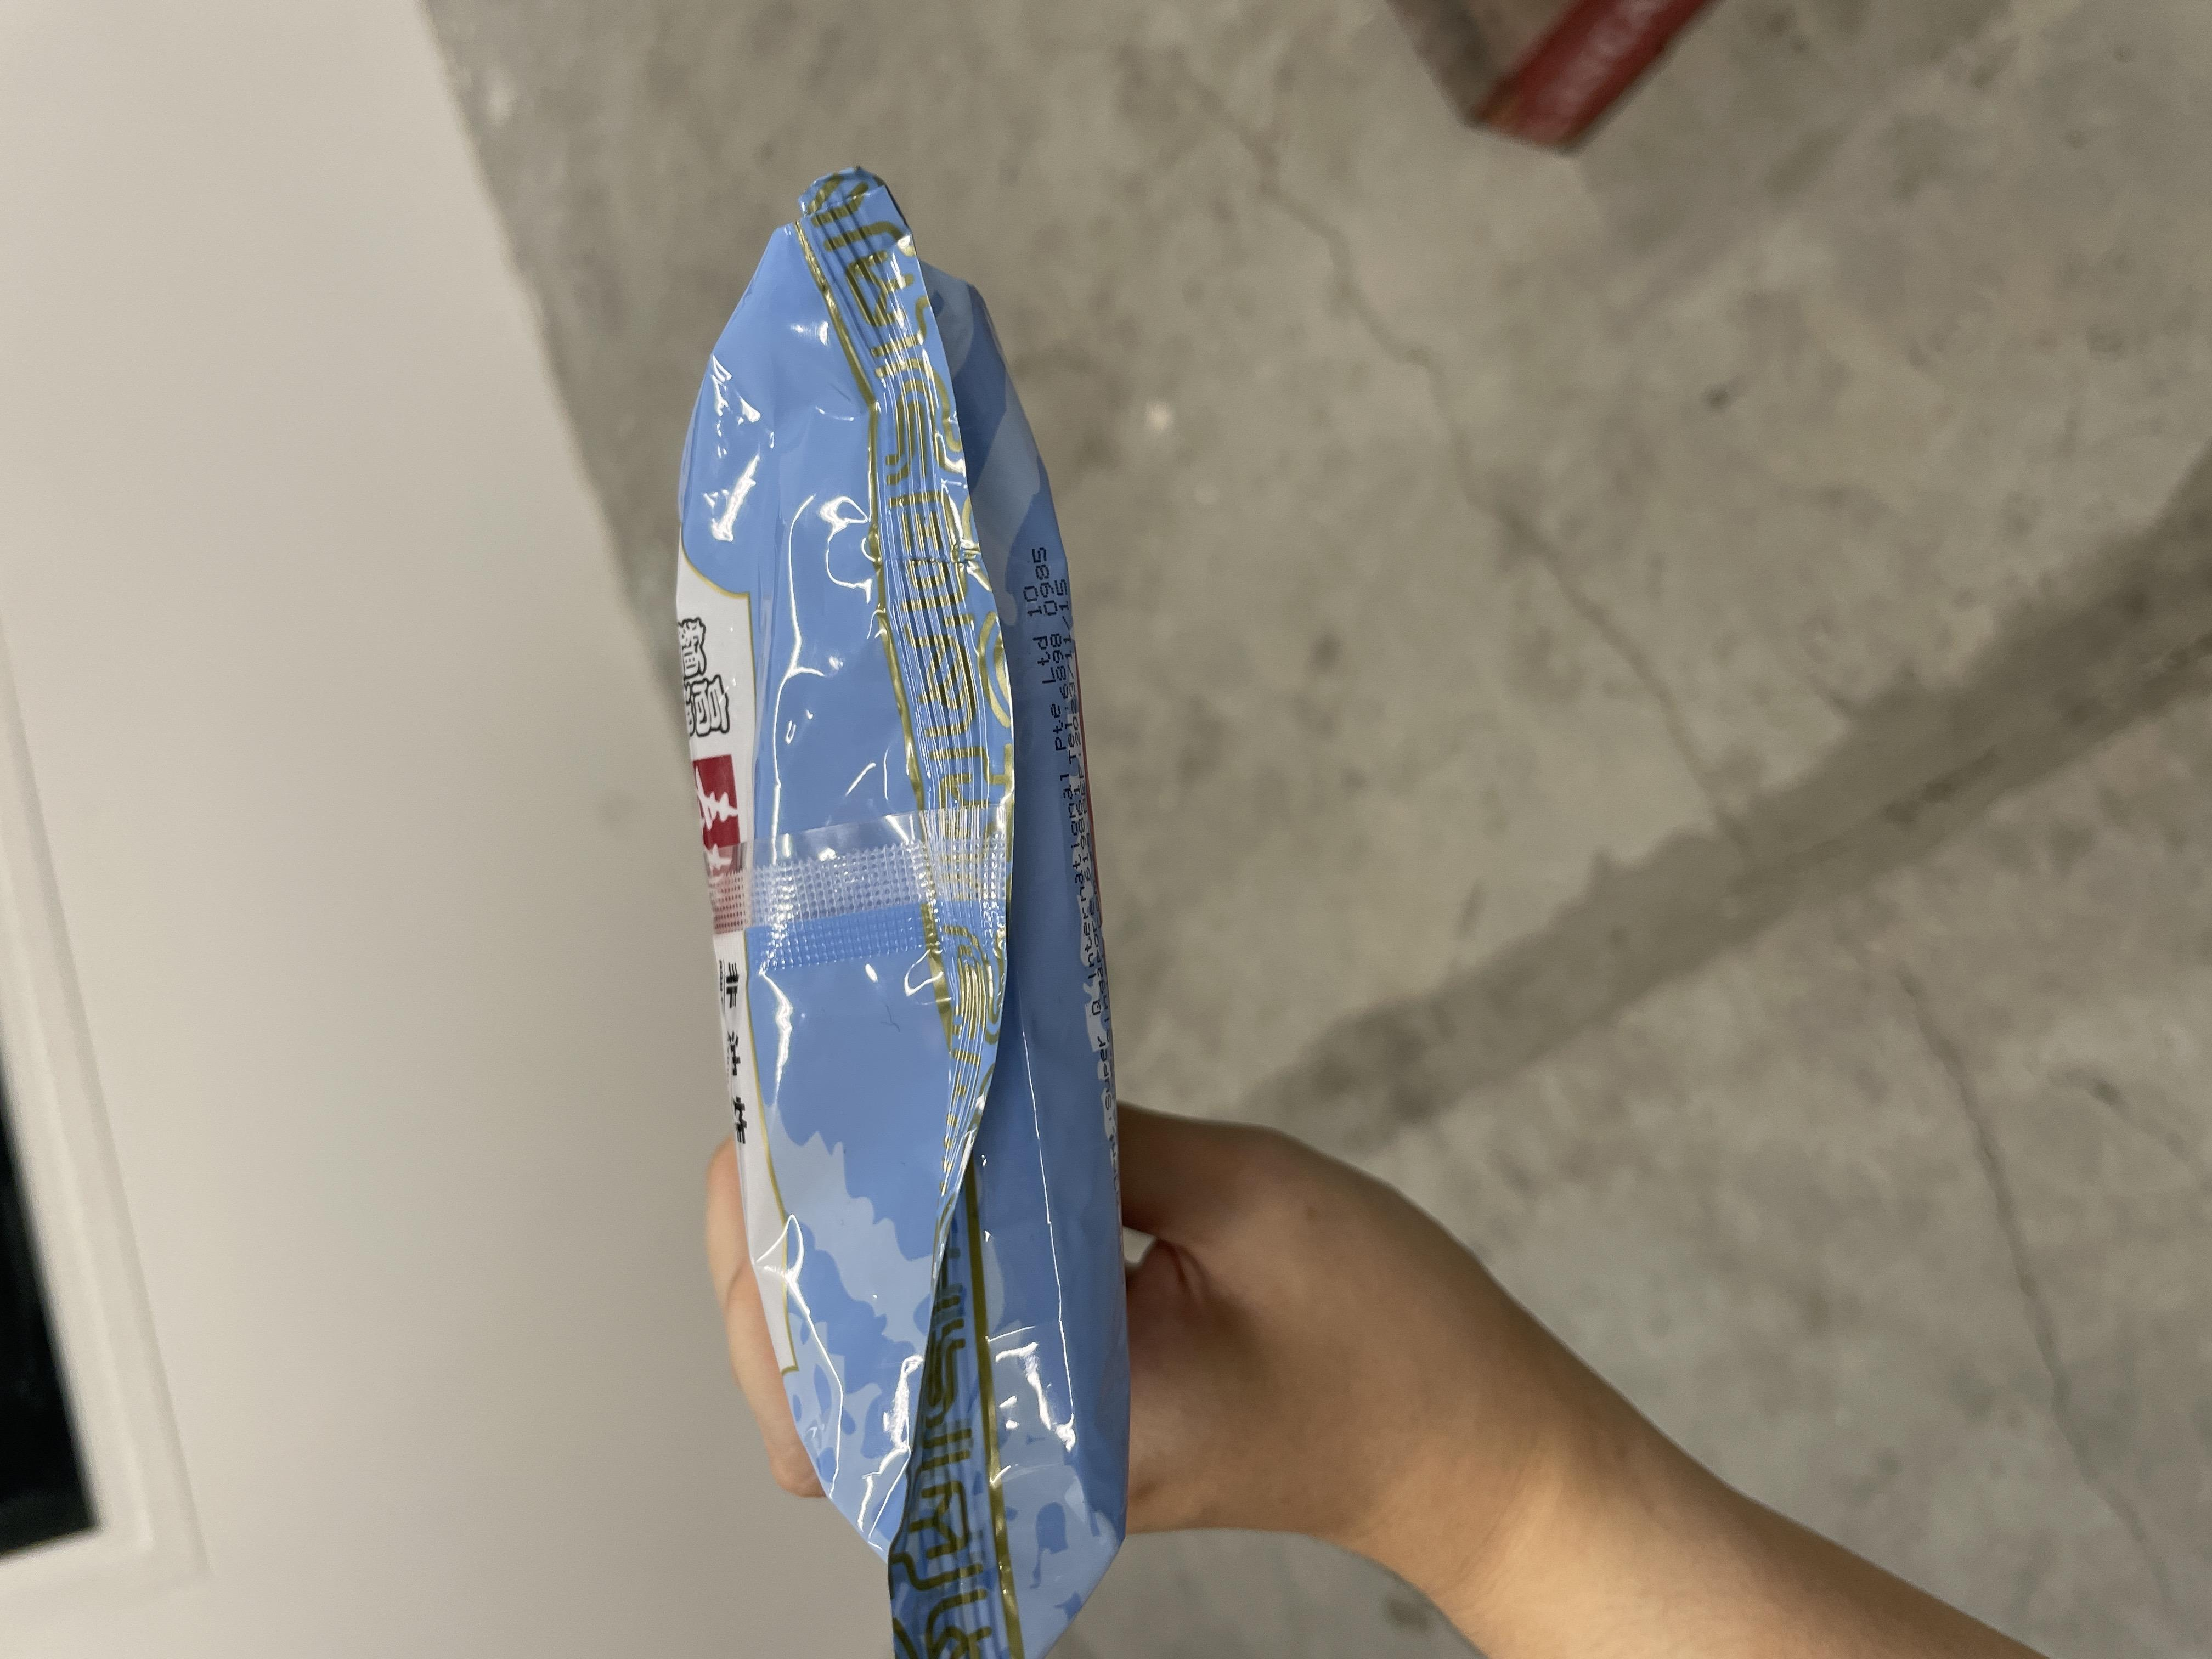object_name: (192, 683, 1345, 1044)
